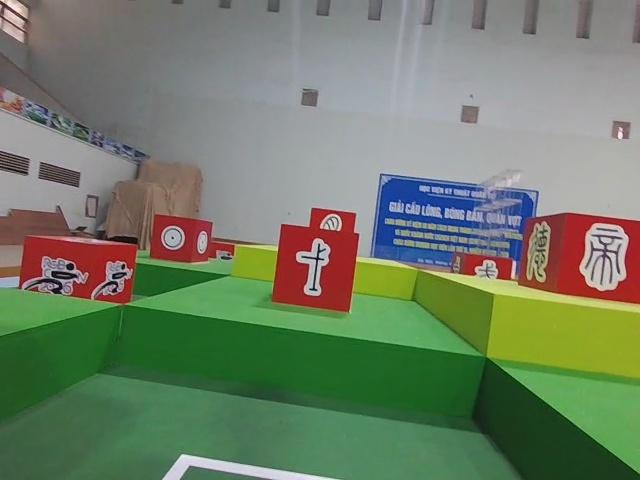R1: (19, 235, 138, 325)
R2 Fake: (519, 213, 640, 307)
R2 Real: (271, 225, 359, 315), (150, 213, 213, 262)
